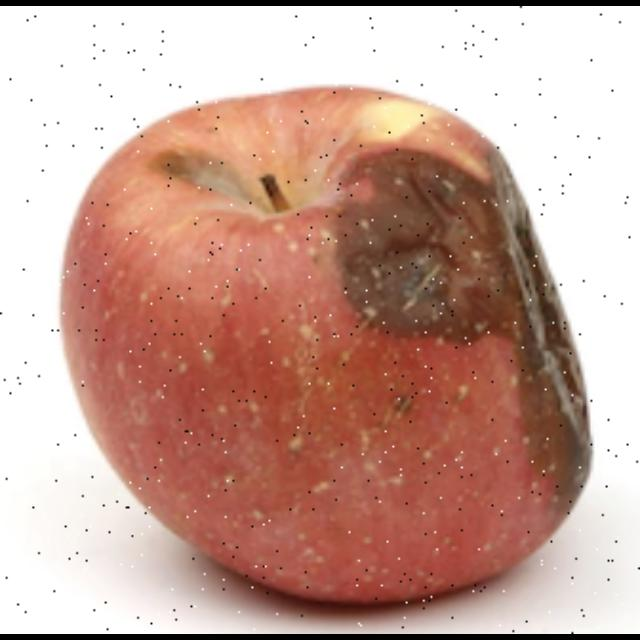Apel Tidak Segar: (34, 58, 610, 610)
